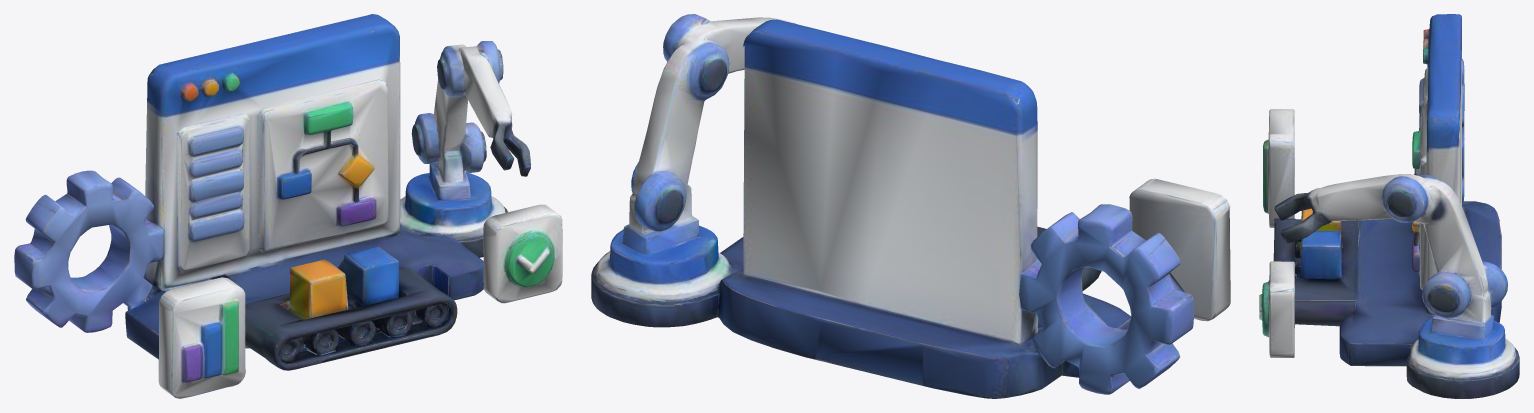
The model's file is efem.glb.
3 views of the same model, side by side, from view 1: azimuth 30°, elevation 25°; view 2: azimuth 150°, elevation 25°; view 3: azimuth 270°, elevation 25° (orthographic). The views are drawn at different scales.
Visible parts, largest first — view 1: Mesh_0; view 2: Mesh_0; view 3: Mesh_0.
Boxes of the visible parts, left/top/right/bottom form: Mesh_0: left=14, top=14, right=562, bottom=398; Mesh_0: left=591, top=14, right=1230, bottom=398; Mesh_0: left=1259, top=14, right=1519, bottom=398.
Size of the model in its own units: 2 by 0.9694 by 0.9902.
1 material, 1 textured.
